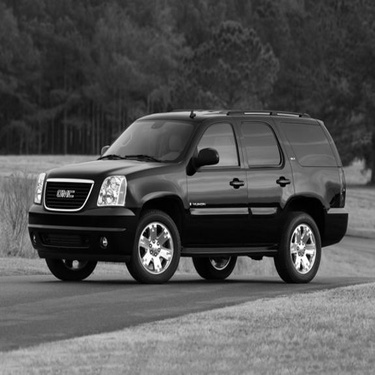car: (25, 98, 357, 288)
